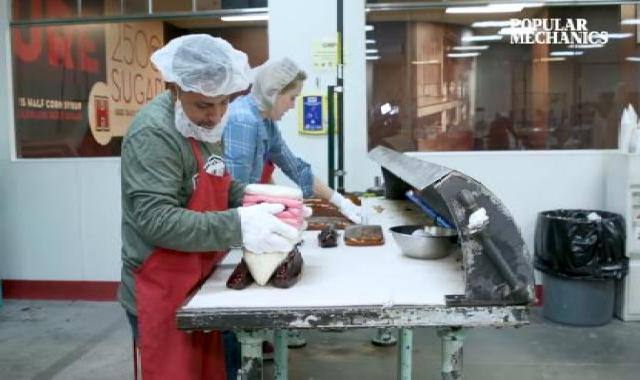hairnet: (150, 34, 254, 99), (242, 57, 318, 119)
